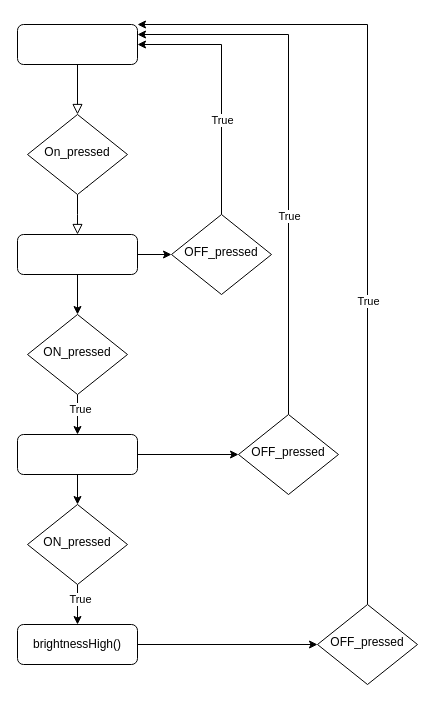
This 435x702 diagram has some shape labels left out. The shapes that lost their labels are listed below. From the top down, each one's centre as x and y in pixels, then its label:
At (x=77, y=44): "brightnessOff()".
At (x=77, y=254): "brightnessLow()".
At (x=77, y=454): "brightnessMedium()".
